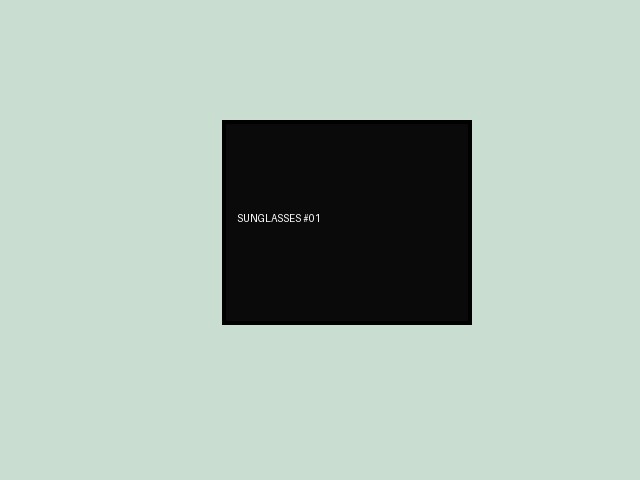sunglasses: (222, 120, 471, 324)
